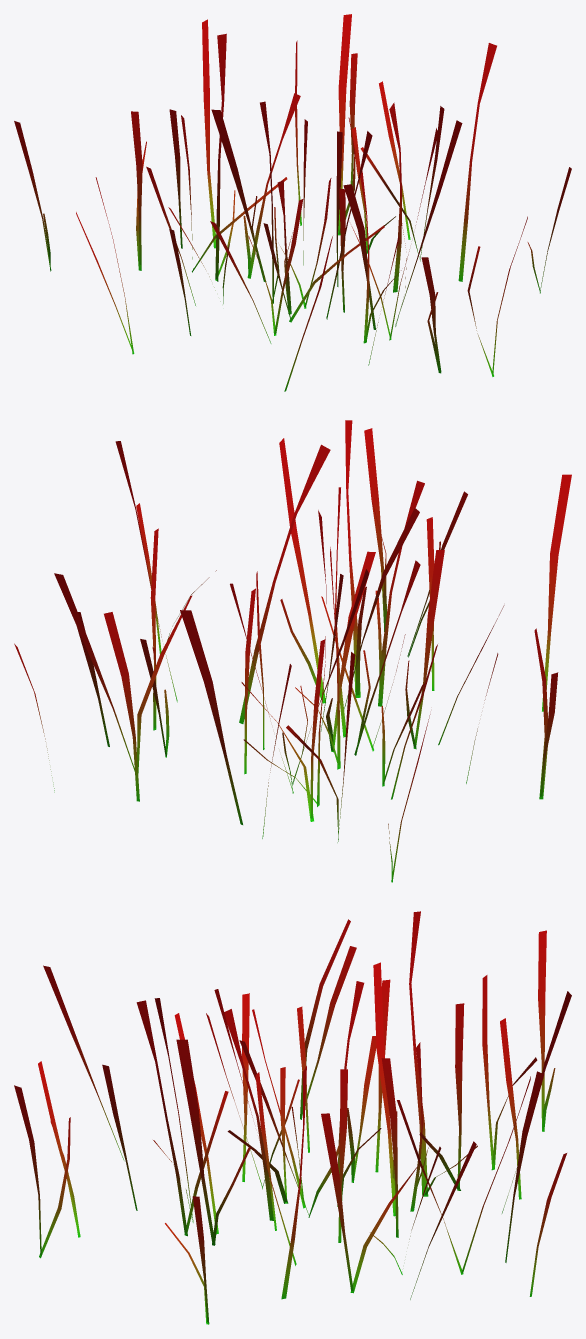
The model's file is Tundra Grass_LOD4_Var13_wk2oaeyqx.fbx.
The picture shows the model from 3 angles, top to bottom: view 1: azimuth 30°, elevation 25°; view 2: azimuth 150°, elevation 25°; view 3: azimuth 270°, elevation 25°; orthographic projection. The views are drawn at different scales.
Visible parts, largest first — view 1: _7iwg_Var13_LOD4; view 2: _7iwg_Var13_LOD4; view 3: _7iwg_Var13_LOD4.
Boxes of the visible parts, x1,y1,x2,y2 form: _7iwg_Var13_LOD4: (14, 14, 571, 391); _7iwg_Var13_LOD4: (14, 420, 571, 882); _7iwg_Var13_LOD4: (14, 911, 571, 1324).
Bounding box in the file's own units: 52.48 × 29.3 × 51.55.
